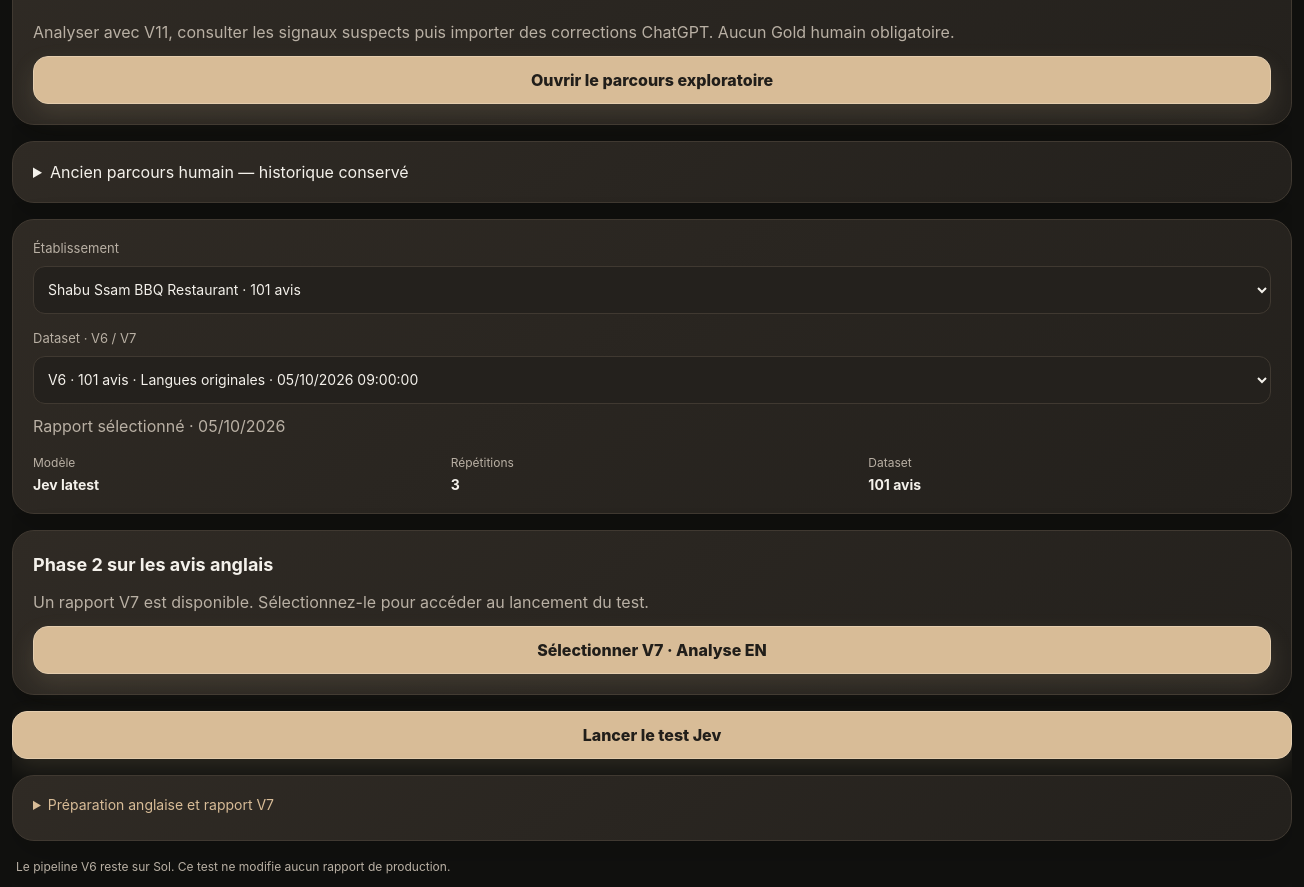
it: Jev mobile page › a persisted V6 selection offers a visible V7 shortcut; selection never posts and preparation is collapsed below launch
This screenshot has width=1304, height=887.
(page scrolled)
Click the button "Sélectionner V7 · Analyse EN": (652, 650) [33,626,1271,674]
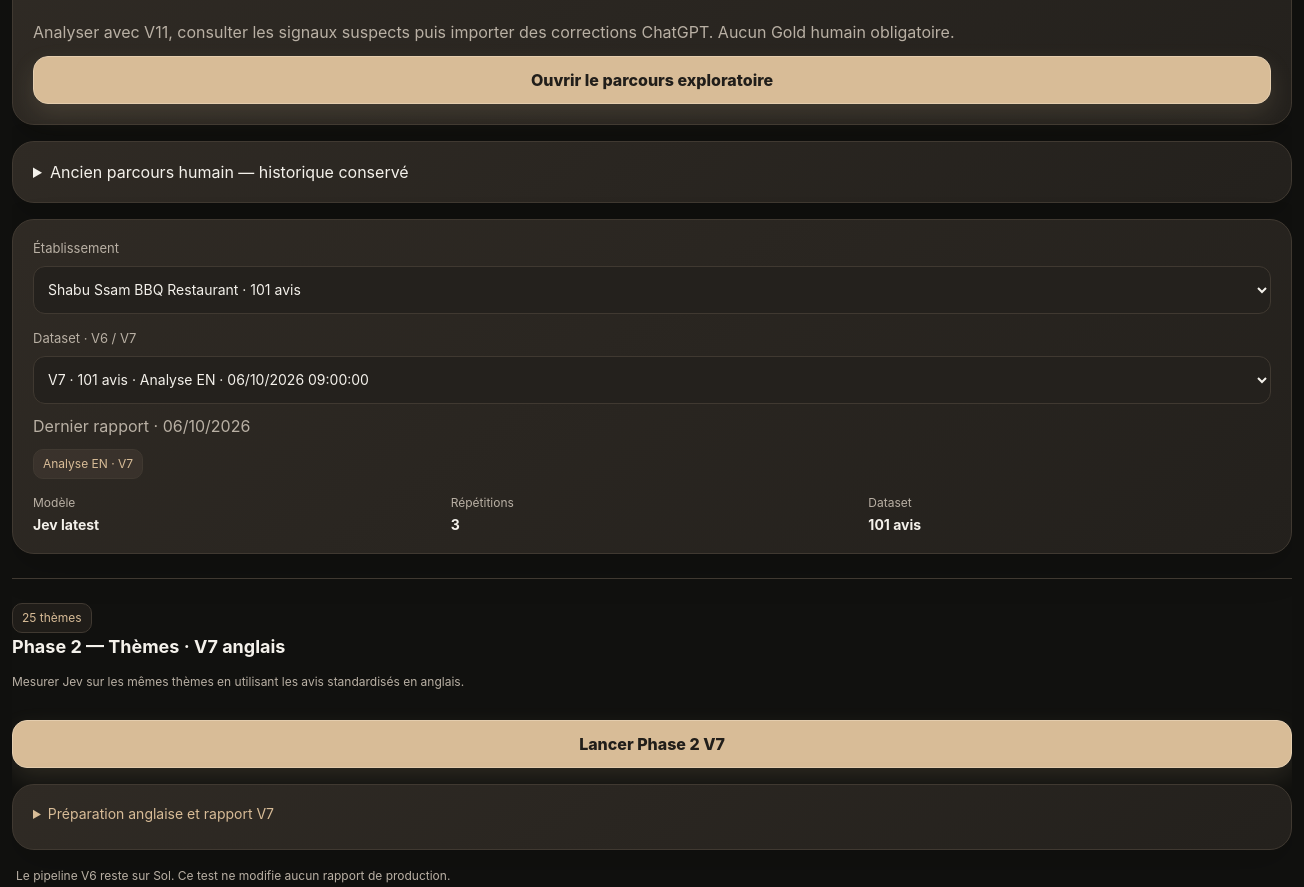
Check: the button "Lancer Phase 2 V7" is enabled, box [12,720,1292,768]
Check: the dropdown labelled "Dataset · V6 / V7" shows "V7 · 101 avis · Analyse EN · 06/10/2026 09:00:00", box [33,356,1271,404]
